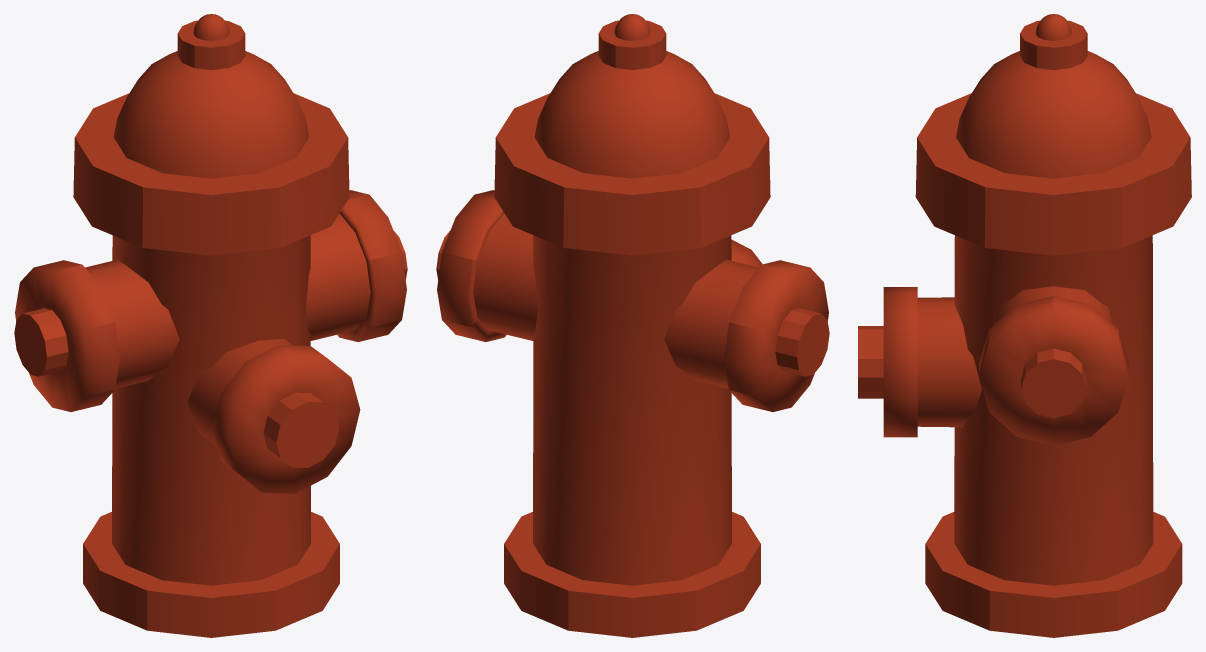
Rendered from fire hydrant.fbx.
The picture shows the model from 3 angles, left to right: view 1: azimuth 30°, elevation 25°; view 2: azimuth 150°, elevation 25°; view 3: azimuth 270°, elevation 25°; orthographic projection.
Visible parts, largest first — view 1: polySurface17; view 2: polySurface17; view 3: polySurface17.
Boxes of the visible parts, x1,y1,x2,y2 form: polySurface17: [14, 14, 407, 637]; polySurface17: [436, 14, 829, 637]; polySurface17: [858, 14, 1191, 637].
Size of the model in its own units: 65.33 by 98.37 by 52.36.
